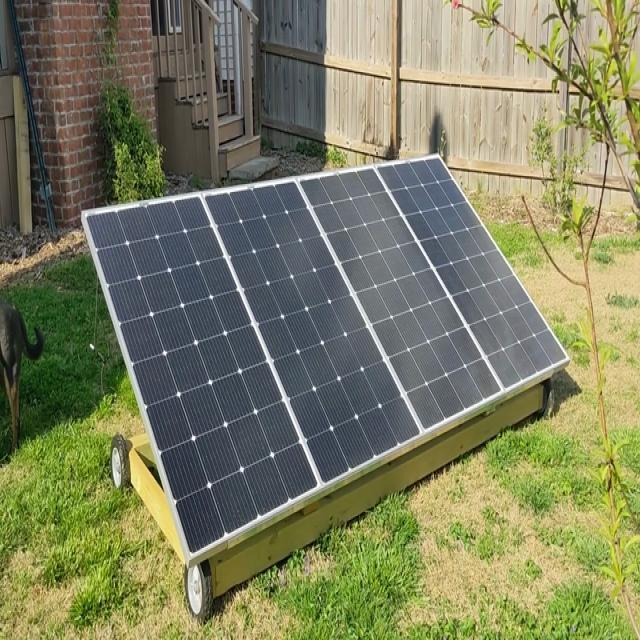Normal Solar Panel: (85, 153, 572, 560)
